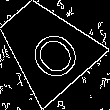O_NW: (12, 14, 80, 80)
